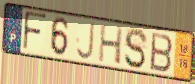6: (50, 16, 71, 58)
B: (149, 31, 174, 74)
F: (22, 9, 48, 53)
H: (98, 23, 125, 66)
J: (75, 21, 96, 62)
S: (123, 27, 149, 71)
